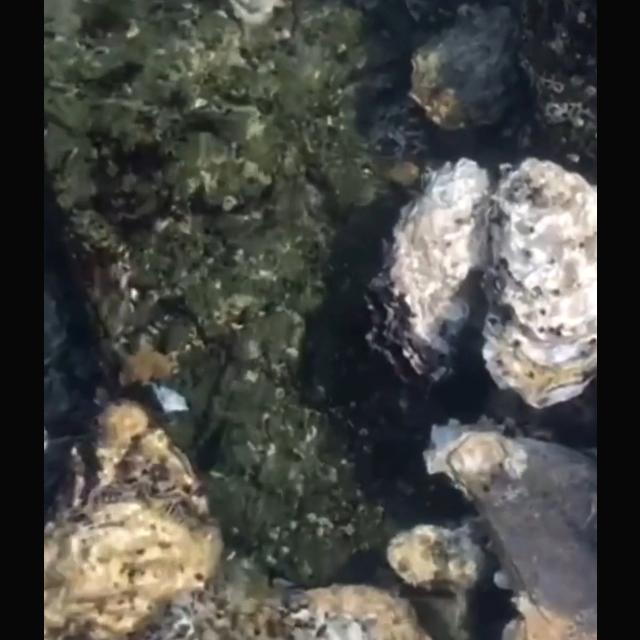Oyster-Closed: (43, 398, 227, 640), (420, 412, 596, 640), (478, 156, 596, 410), (147, 580, 435, 640), (408, 7, 520, 132), (383, 520, 489, 594)
Oyster-Open: (362, 157, 492, 391)
